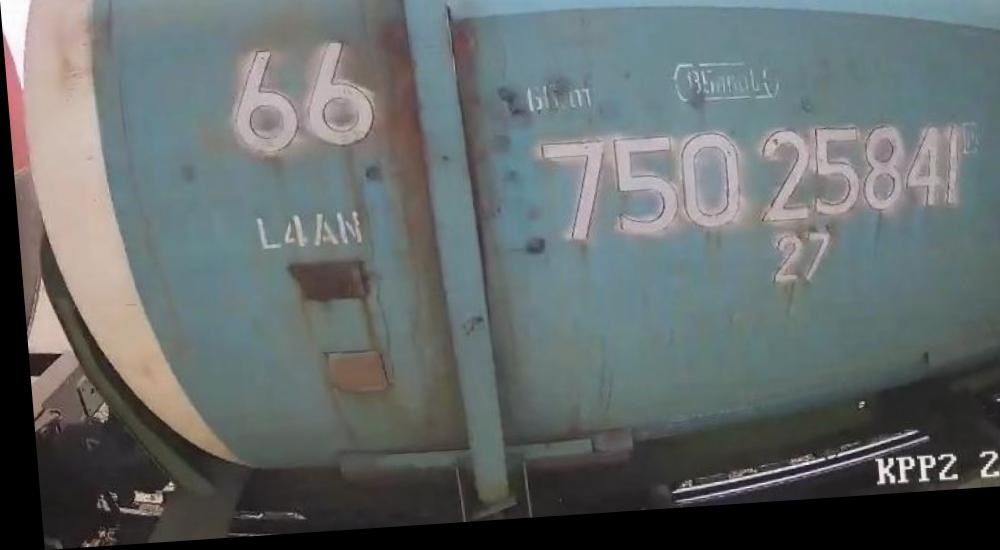Wagon-number: (527, 122, 966, 246)
